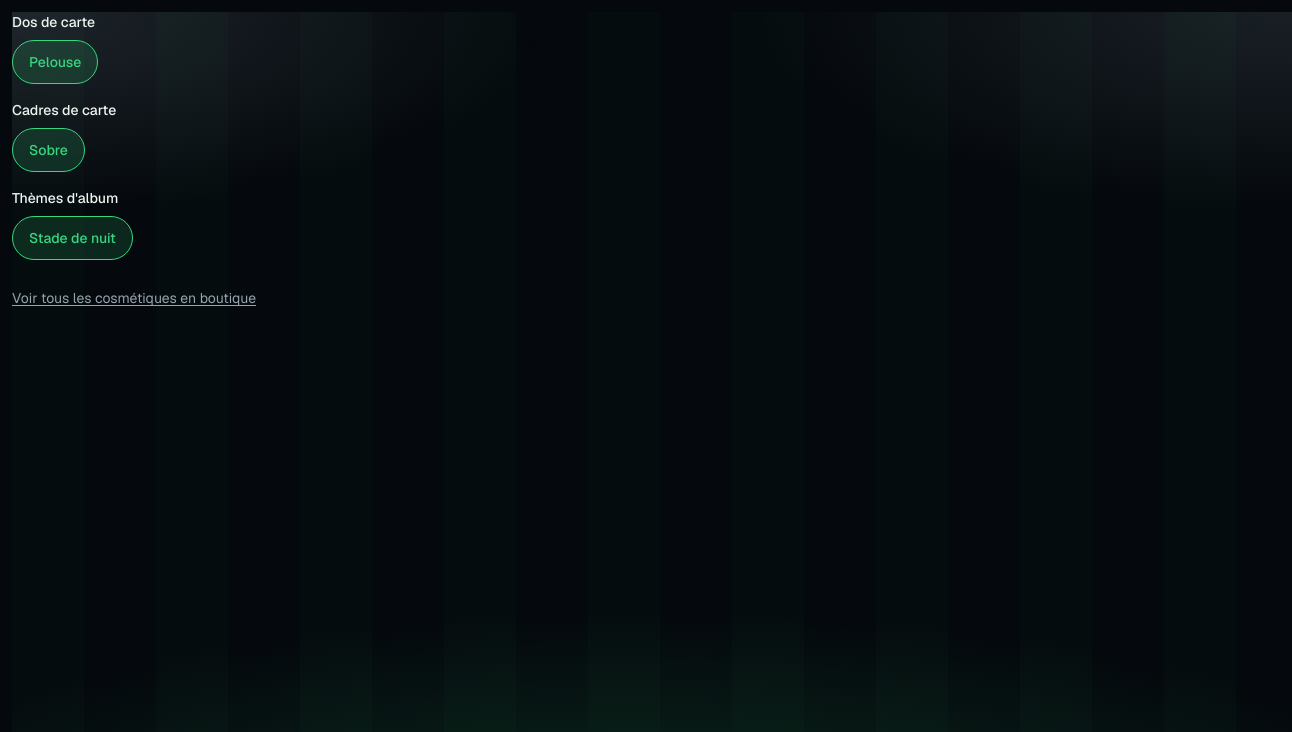
Scenario: cosmétiques sur la page Compte › affiche le refus d'un équipement
This screenshot has width=1292, height=732.
Click the button "Sobre". click: (48, 150)
box: [12,128,85,172]
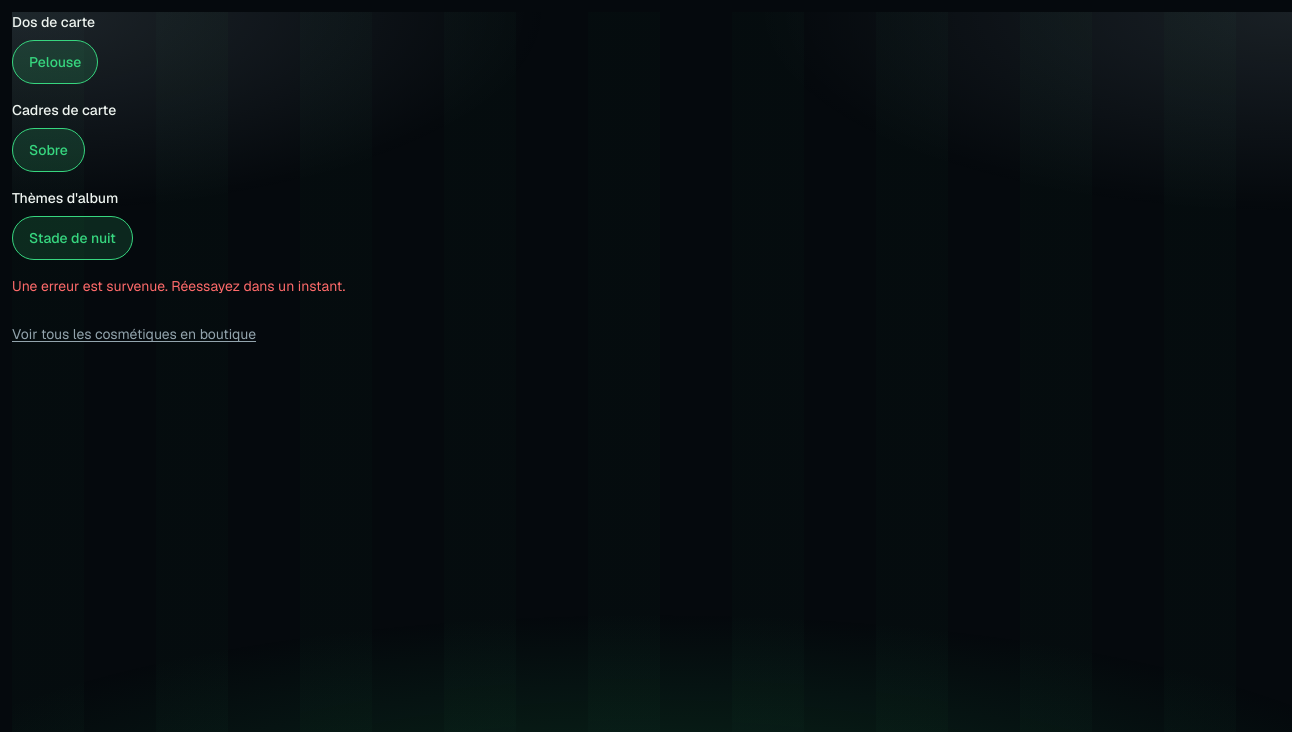
Expected: the message shows "Une erreur est survenue", [12,277,345,295]
